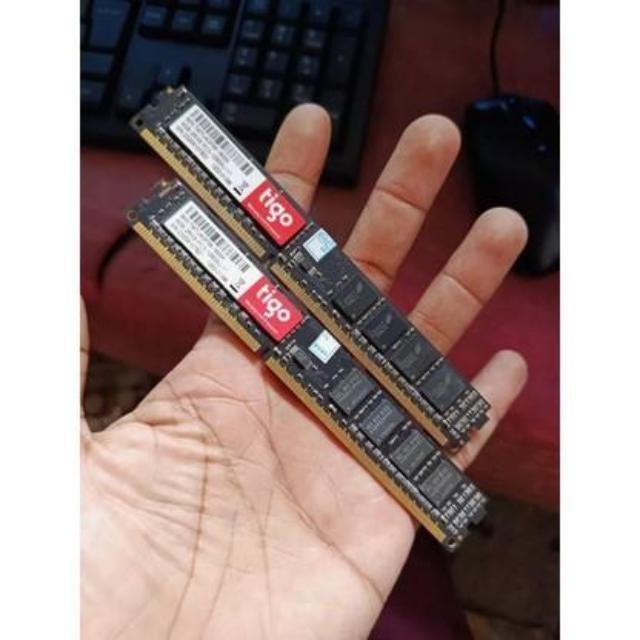RAM: (118, 79, 502, 556)
